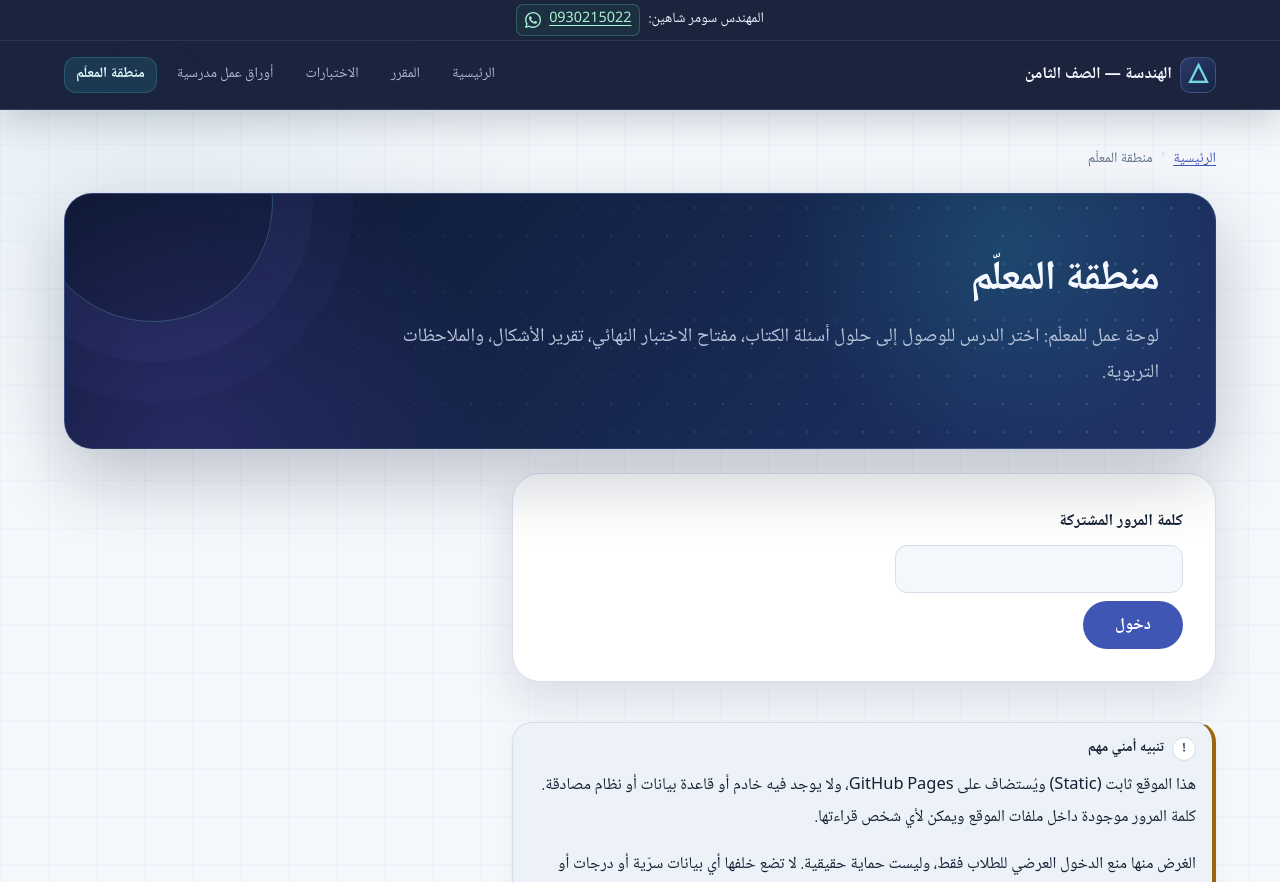
Test case: teacher area — passphrase gate › rejects a wrong passphrase and shows no teacher material
Type "wrong-pass" into the password field labelled "كلمة المرور المشتركة". click: (1039, 569)
box: [895,545,1183,593]
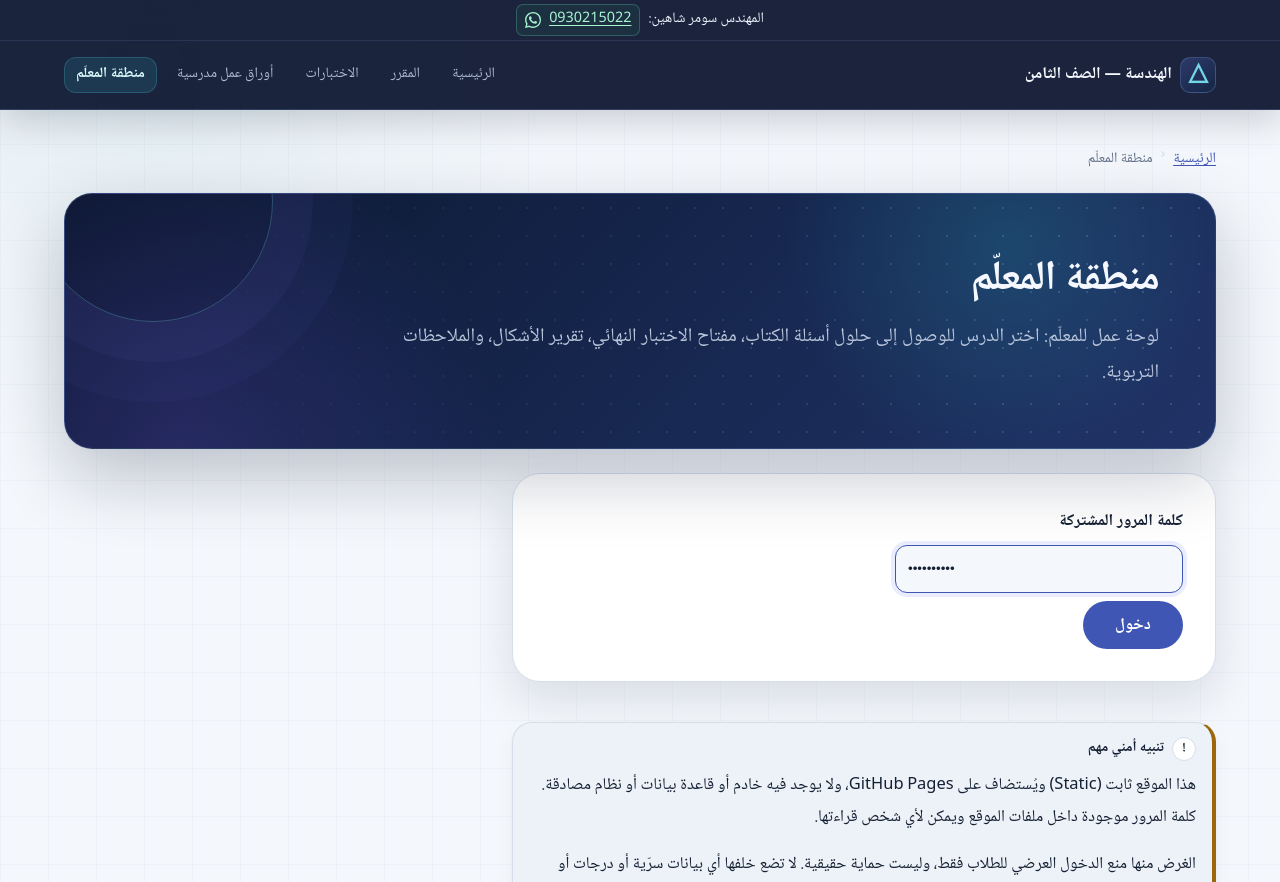
Click the button "دخول". click: click(1133, 625)
box: [1083,601,1183,649]
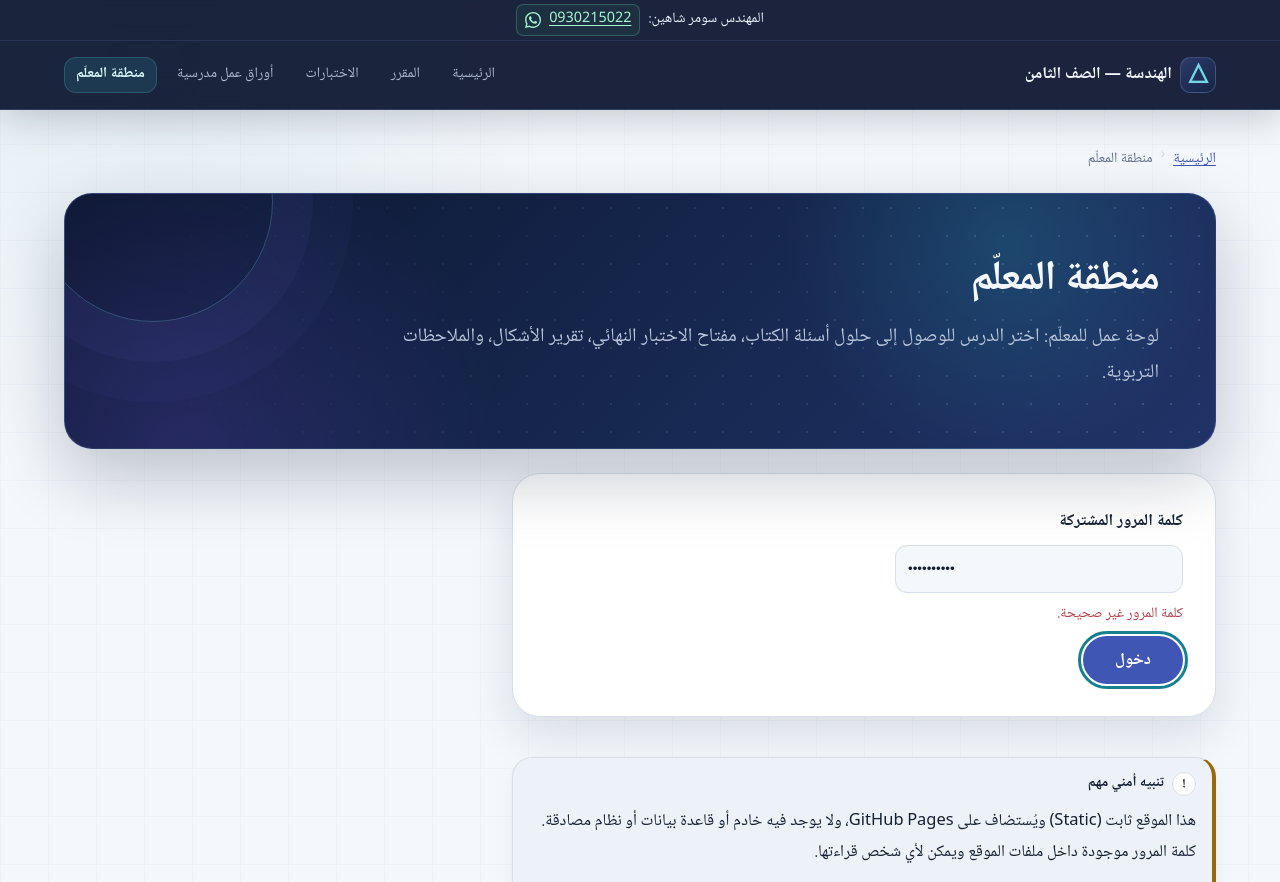
Now the message reads "كلمة المرور غير صحيحة.", box [1057,602,1183,626]
